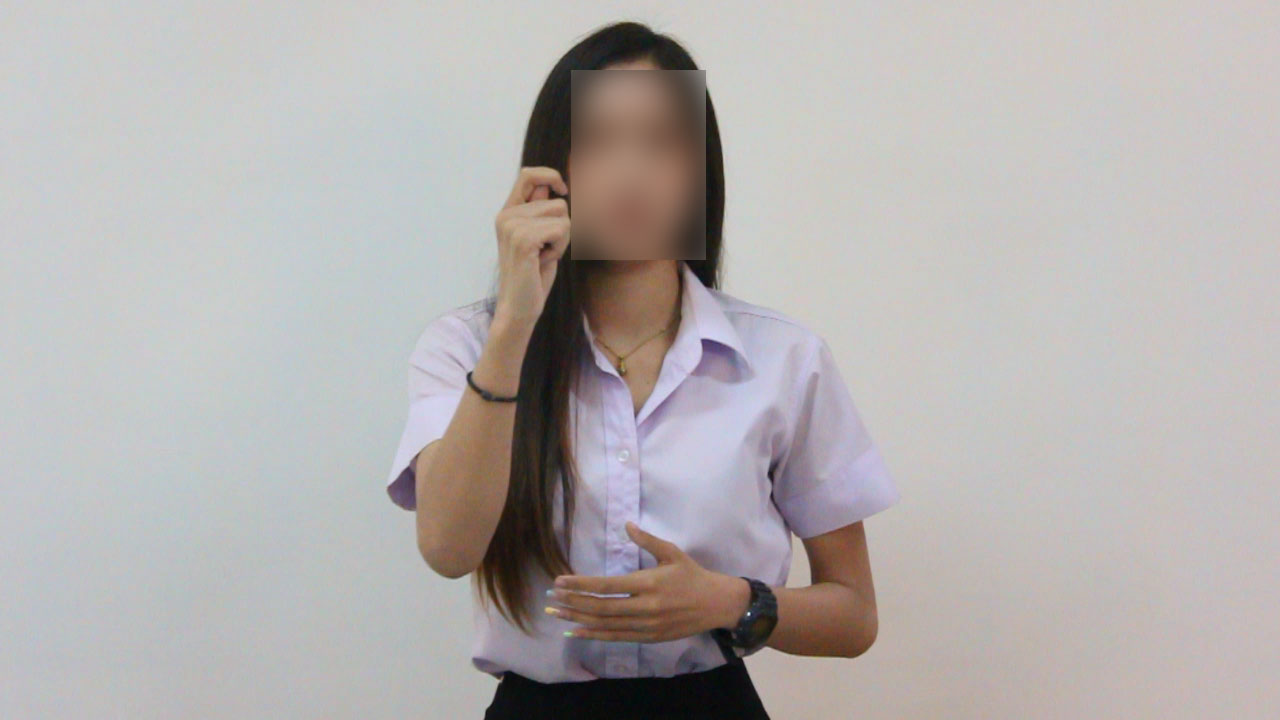or: (488, 156, 576, 337)
